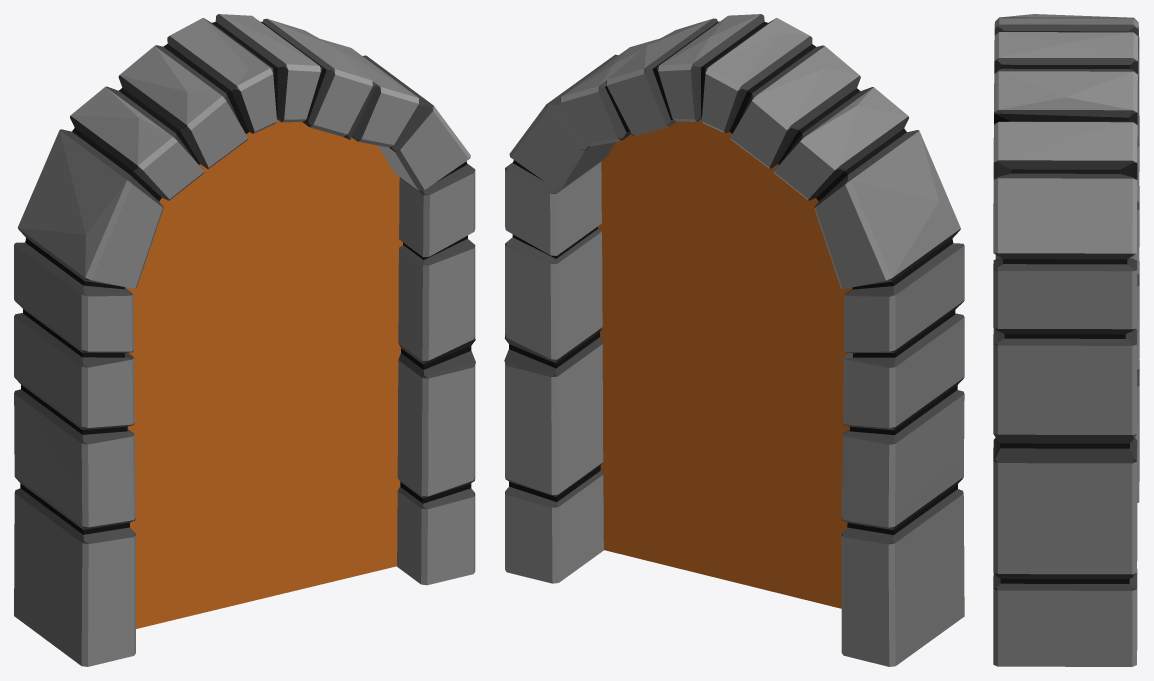
The model's file is portalOrange 1.fbx.
The picture shows the model from 3 angles, left to right: view 1: azimuth 30°, elevation 25°; view 2: azimuth 150°, elevation 25°; view 3: azimuth 270°, elevation 25°; orthographic projection.
Parts seen in each view (by area): view 1: PortalOrange; view 2: PortalOrange; view 3: PortalOrange.
Part boxes in pixels (bbox=[...]): PortalOrange: bbox=[14, 14, 475, 666]; PortalOrange: bbox=[504, 14, 964, 666]; PortalOrange: bbox=[993, 14, 1139, 666].
Bounding box in the file's own units: 284 × 382 × 93.17.
